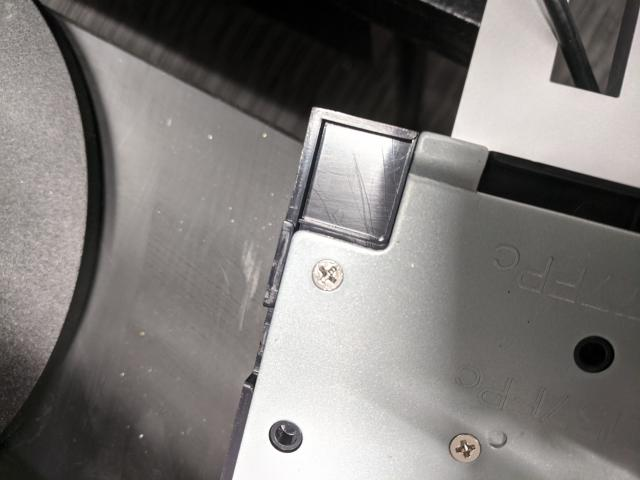CRS: (308, 257, 349, 296), (449, 433, 482, 464)
